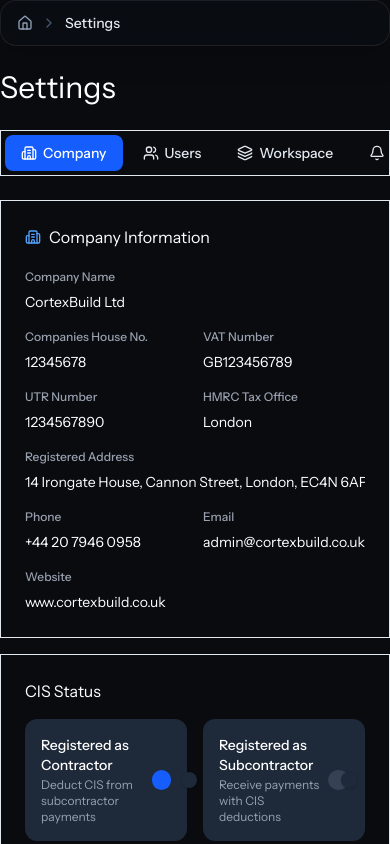
Settings › loads users on mount
The width and height of the screenshot is (390, 844).
// Switch to Users tab
What coordinates should you click on to do the following:
click the button "Users"
I would click on:
 (172, 153)
Its box is x1=126 y1=135 x2=217 y2=171.
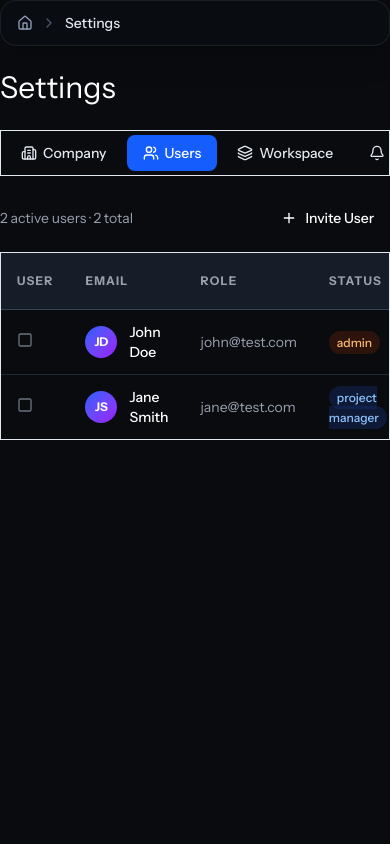
Expected: the text "John Doe" is shown, x1=129 y1=323 x2=161 y2=361
Expected: the text "Jane Smith" is shown, x1=129 y1=387 x2=168 y2=427
